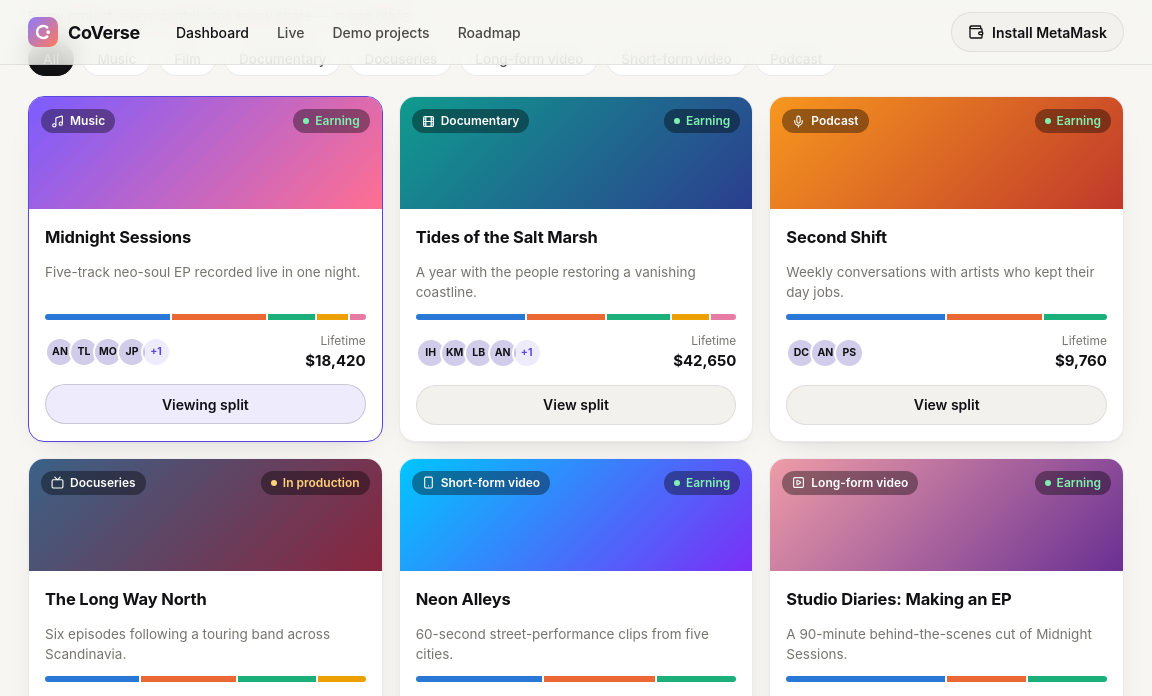
Test: App › shows the selected project's split
(page scrolled)
Click the button "View split" below "$9,760" at (947, 405), box x1=786 y1=385 x2=1107 y2=425
(page scrolled)
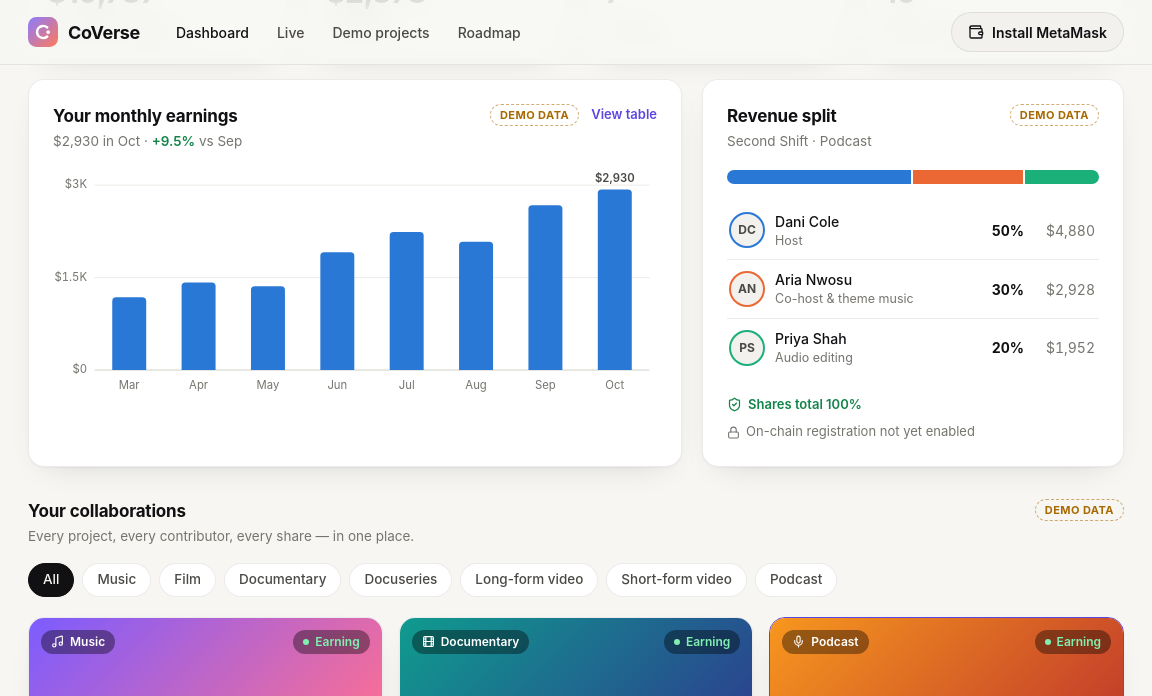
Expected: the text "Shares total 100%" is shown, x1=727 y1=395 x2=862 y2=414
Expected: the text "Dani Cole" is shown, x1=775 y1=210 x2=839 y2=232
